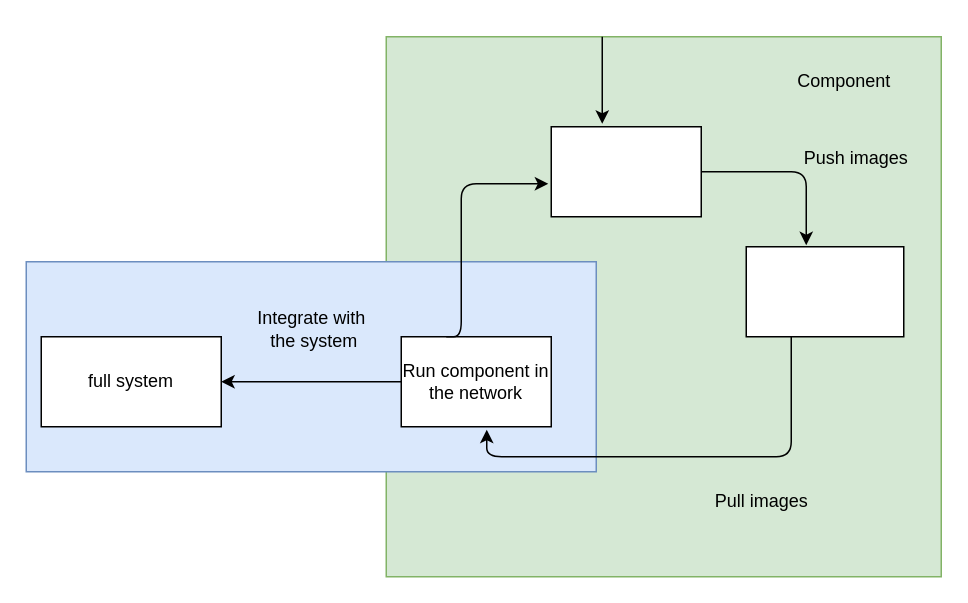
Some shapes in this 968 by 603 pixel diagram are drawn without their labels. Each missing label, with the centre of its shape:
"Docker Hub" belongs at pixel 824 291.
"Run and test in local enviroment" belongs at pixel 625 171.
